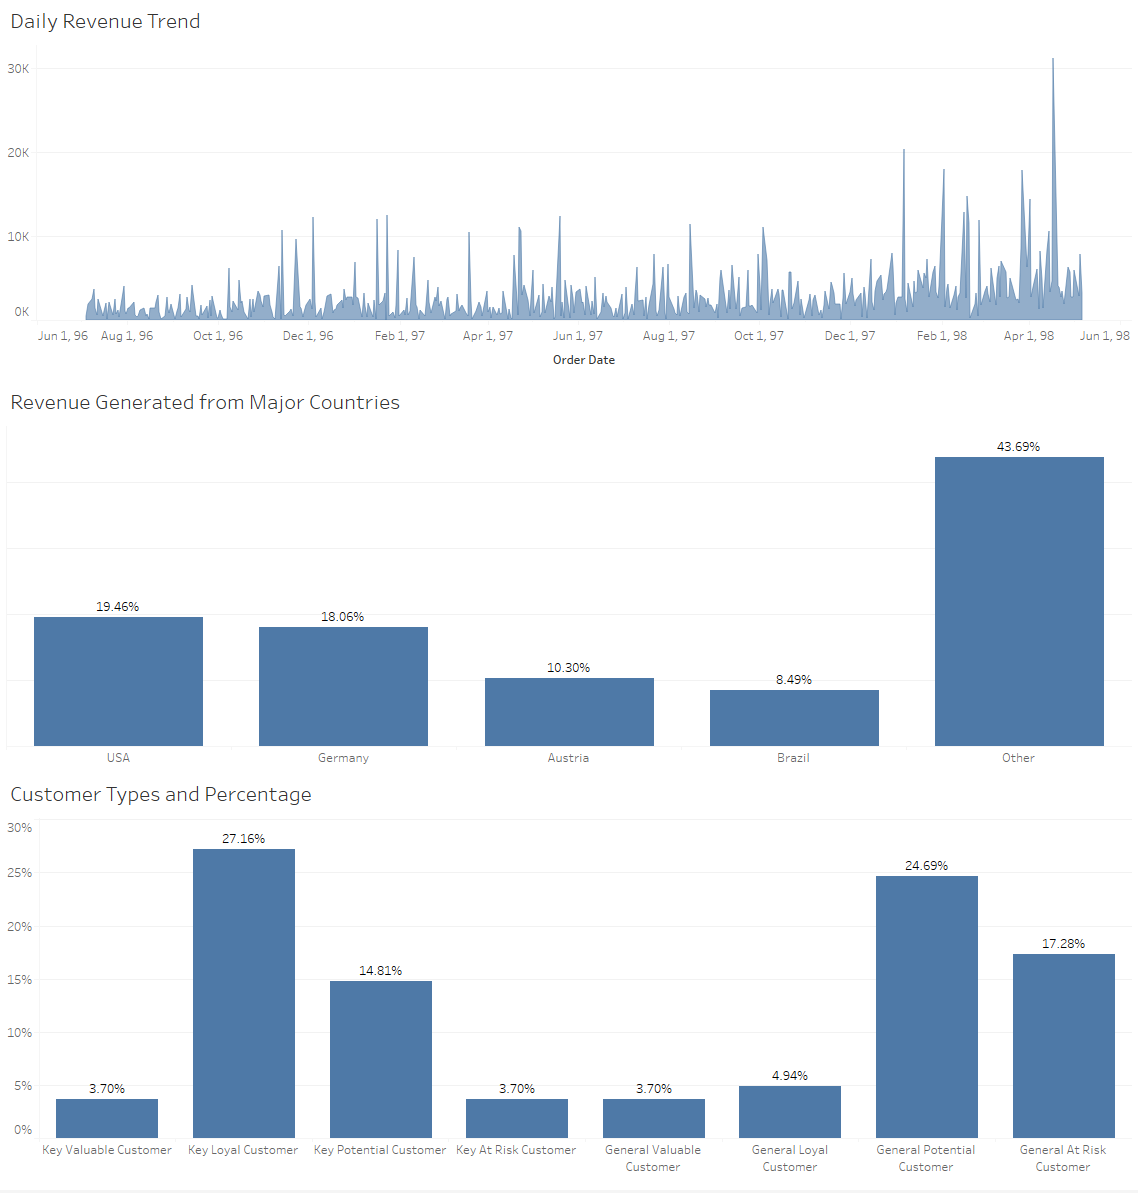

Layout of this report page (visuals, bound fields, positions):
{"tool":"tableau","page":{"name":"Dashboard 1","canvas":[1150,1200],"ordinal":0},"visuals":[{"type":"worksheet","title":"daily_revenue","mark":"Area","rows":["REVENUE_AFTER_DISCOUNT"],"cols":["ORDER_DATE"],"box":[8,8,1134,381]},{"type":"worksheet","title":"country_revenue","mark":"Automatic","box":[8,389,1134,392]},{"type":"worksheet","title":"customer","mark":"Automatic","rows":["CUSTOMER_ID"],"cols":["Calculation_2504845857636405257"],"box":[8,781,1134,411]}]}

Visuals, with their boxes in screenshot pixels (x1, y1, x2, y2), scaled from the page's 1150x1200 canvas onto the 1138x1193 screenshot:
"daily_revenue" worksheet (Area marks): region(8, 8, 1130, 387)
"country_revenue" worksheet: region(8, 387, 1130, 776)
"customer" worksheet: region(8, 776, 1130, 1185)
